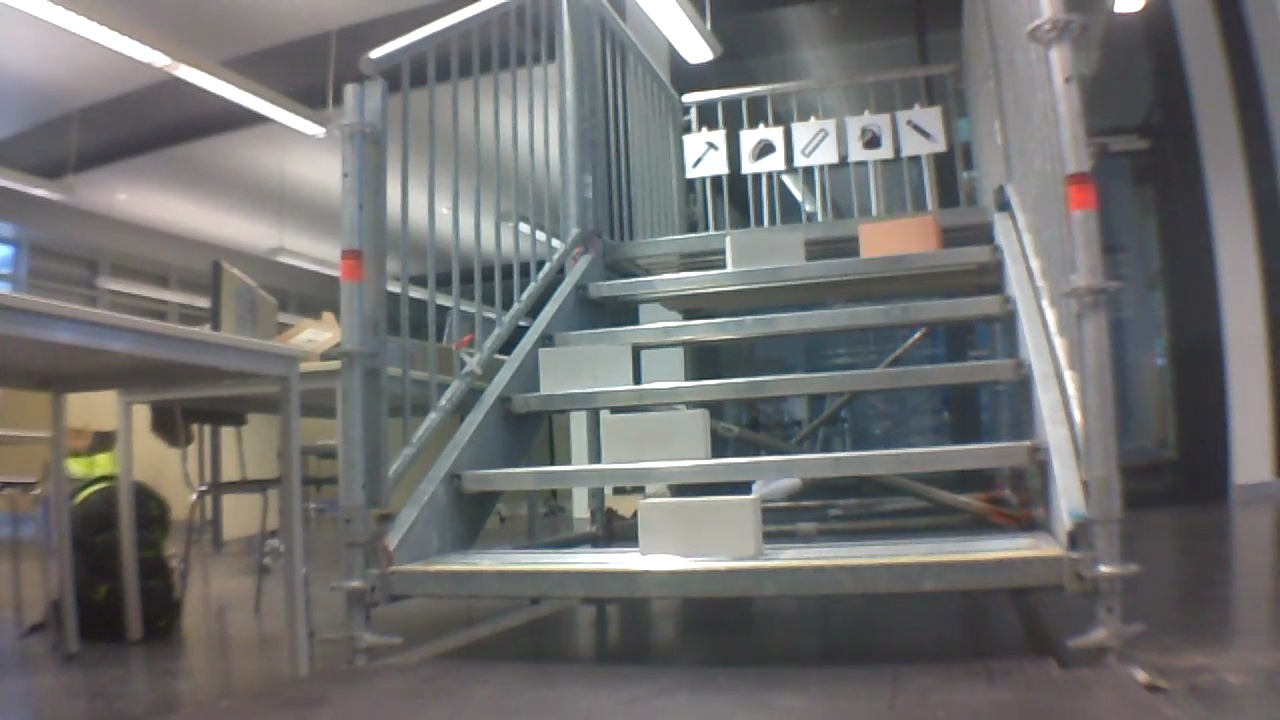brick: (637, 496, 763, 556), (604, 410, 706, 460), (541, 345, 628, 392), (861, 217, 938, 255), (724, 233, 805, 269)
bucket: (855, 118, 887, 154)
edge: (501, 359, 1030, 410), (391, 556, 1064, 596), (450, 443, 1042, 487), (543, 293, 1020, 344), (584, 245, 1010, 295), (606, 208, 989, 248)
hammer: (691, 139, 723, 172)
pencil: (904, 114, 942, 148)
ruler: (797, 122, 832, 163)
stairs: (334, 2, 1125, 668)
steps: (376, 199, 1075, 611)
taco: (744, 134, 777, 165)
